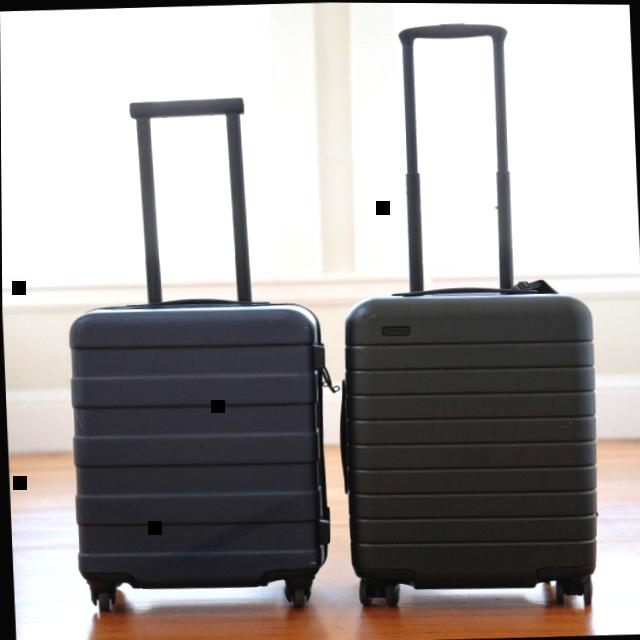luggage: (332, 269, 613, 614), (51, 289, 341, 617)
